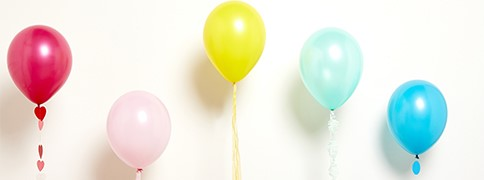Balloon: (299, 27, 362, 110), (7, 25, 72, 105), (202, 1, 266, 82), (105, 92, 170, 167), (387, 80, 447, 153)
